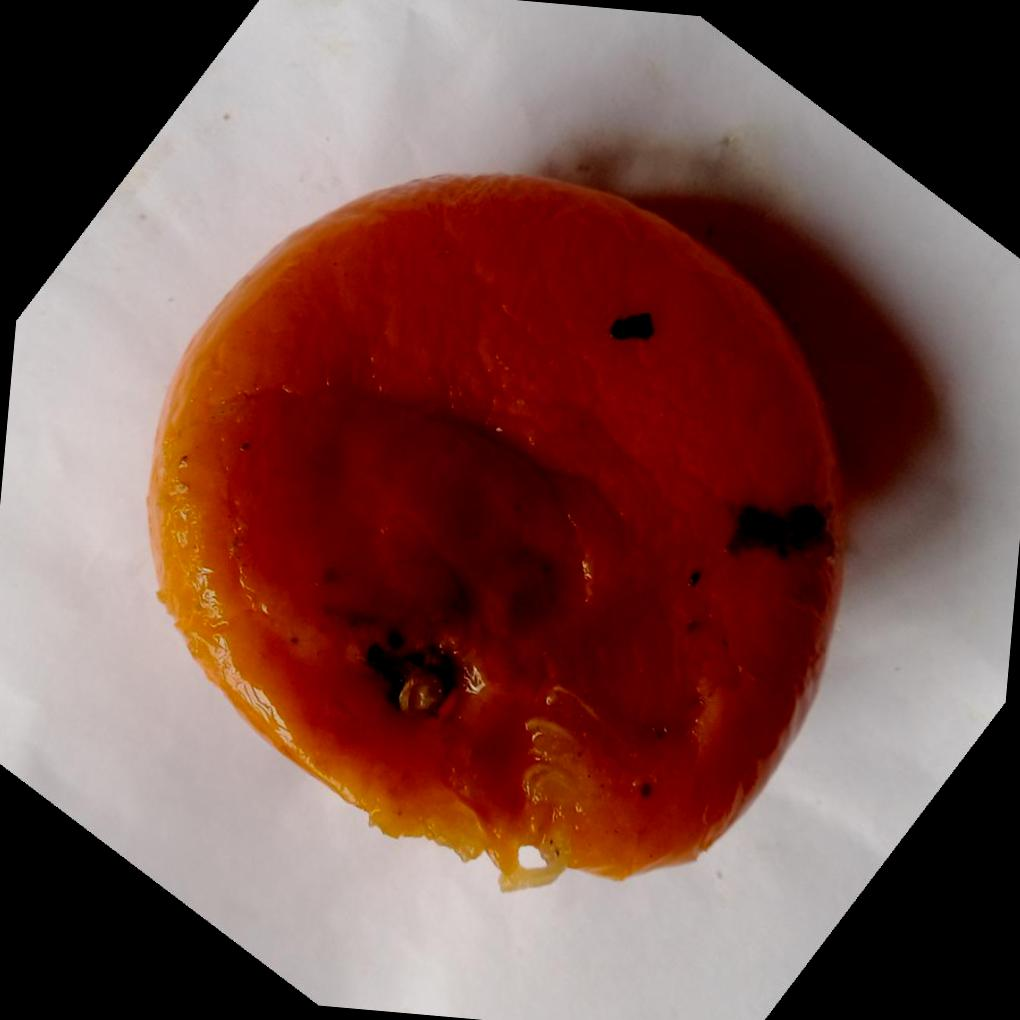FreshOrange: (146, 168, 849, 889)
